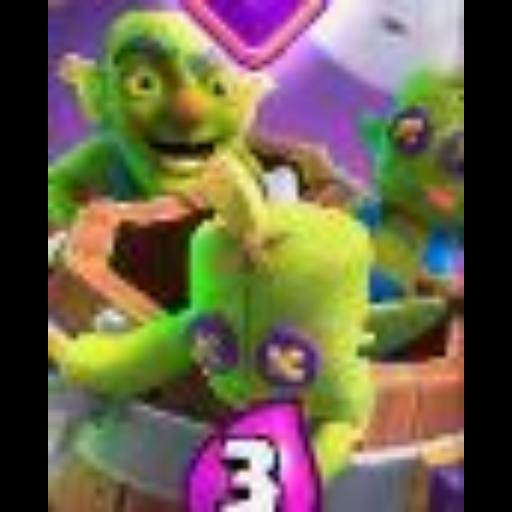goblin-barrel-evo: (49, 0, 465, 512)
